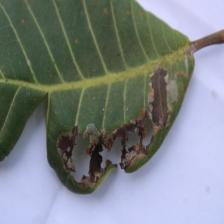leaf miner: (0, 0, 223, 195)
